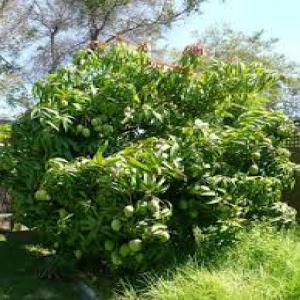Tree: (9, 38, 296, 290)
